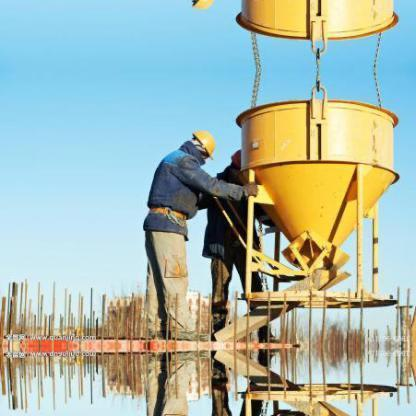helmet: (191, 129, 217, 160), (228, 149, 243, 171)
